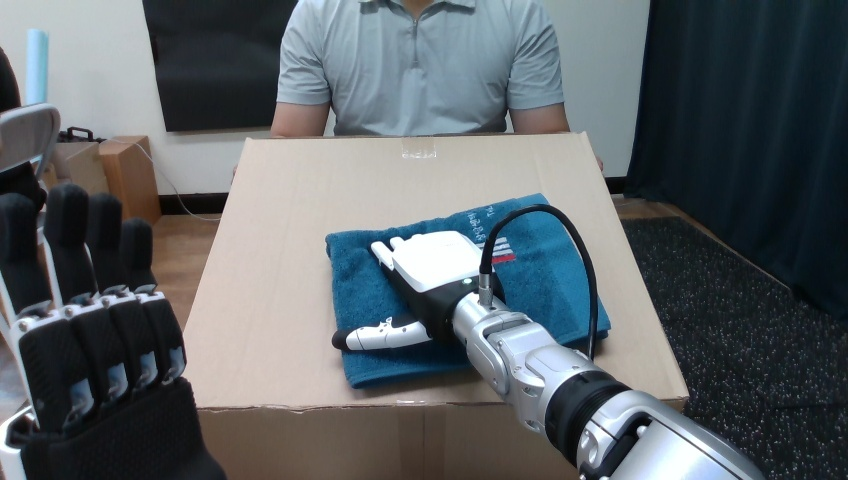left robot hand: (332, 204, 762, 479), (490, 211, 590, 356)
